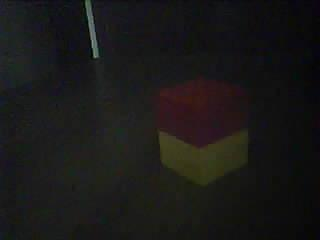lego: (154, 76, 249, 186)
